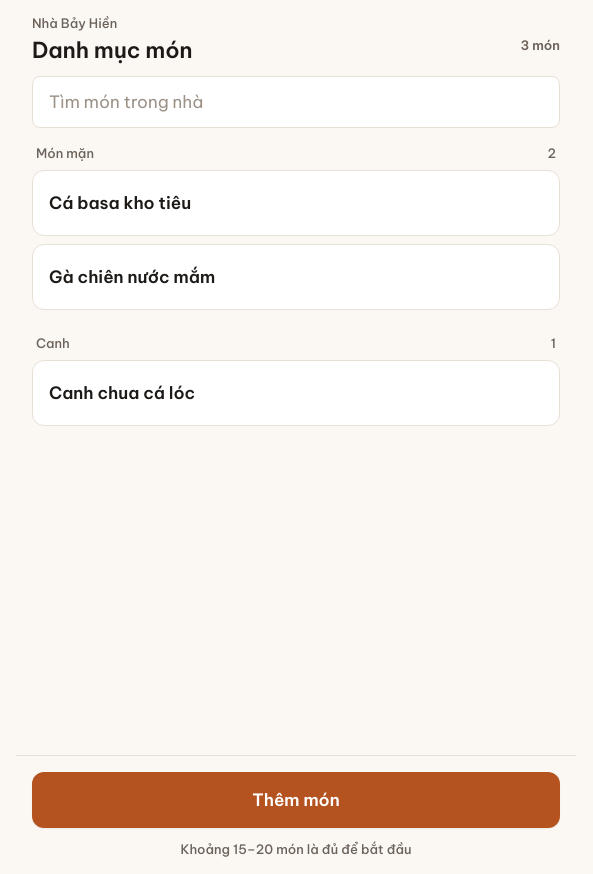
Test: DishCatalogScreen (S-05) › gõ vào ô tìm thì lọc danh sách ngay (hỗ trợ bỏ dấu)
This screenshot has width=593, height=874.
Type "ca loc" into the search field labelled "Tìm món trong nhà" at (296, 102), box [32,76,560,128]
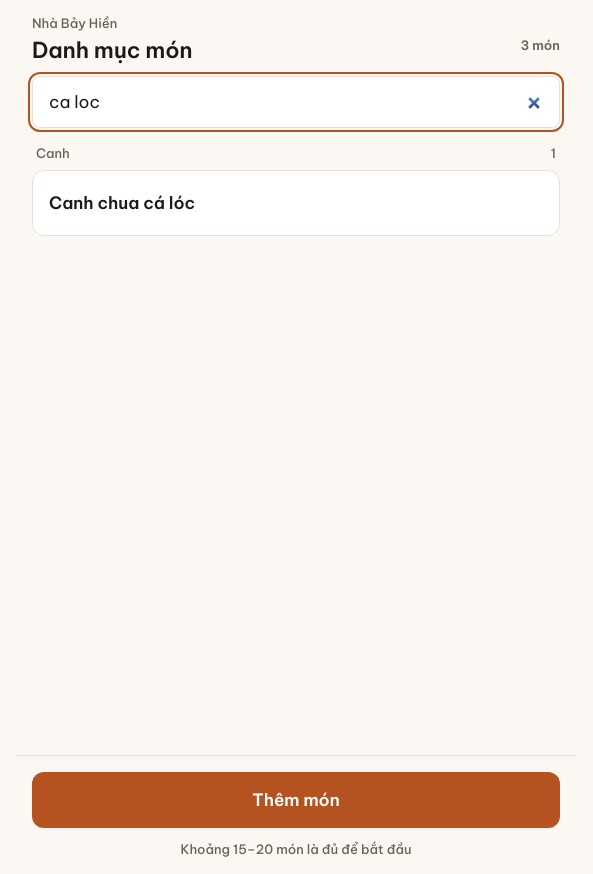
Expected: the text "Canh chua cá lóc" is shown, [49,191,195,215]
Expected: the button "Cá basa kho tiêu" is gone
Expected: the button "Gà chiên nước mắm" is gone
